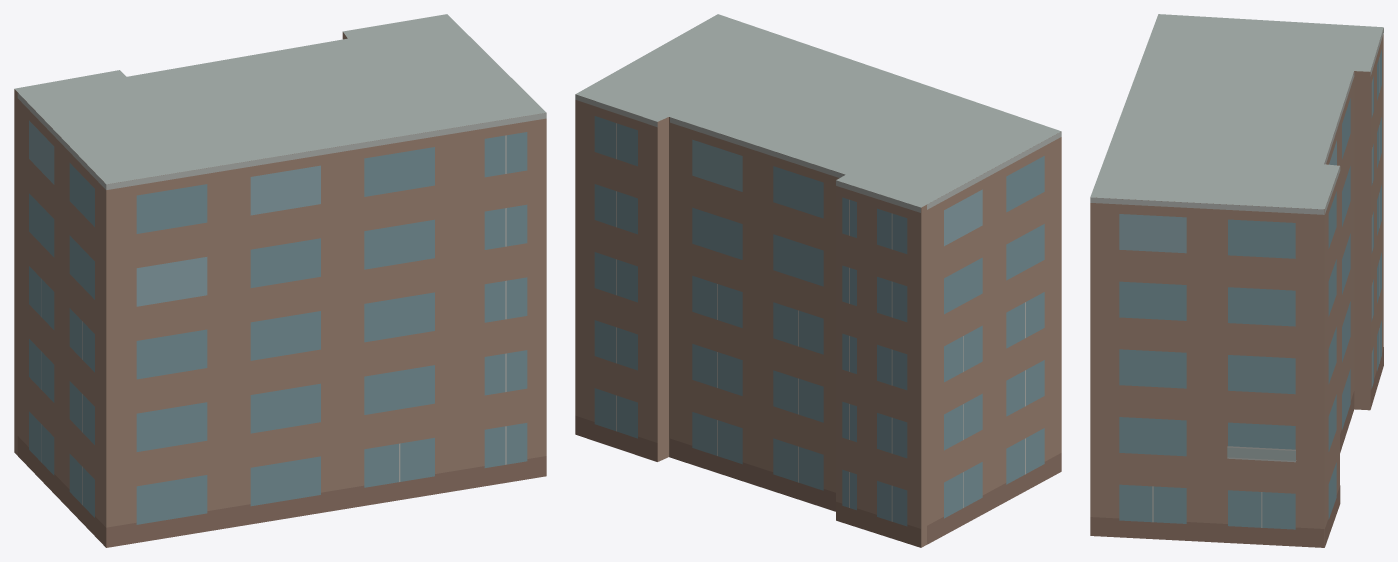
Rendered from survey-upis-32871239.glb.
3 views of the same model, side by side, from view 1: azimuth 30°, elevation 25°; view 2: azimuth 150°, elevation 25°; view 3: azimuth 270°, elevation 25° (orthographic). The views are drawn at different scales.
Visible parts, largest first — view 1: survey-upis-32871239.tmp; view 2: survey-upis-32871239.tmp; view 3: survey-upis-32871239.tmp.
Part boxes in pixels (<box>): survey-upis-32871239.tmp: <box>14,14,546,547</box>; survey-upis-32871239.tmp: <box>575,14,1061,547</box>; survey-upis-32871239.tmp: <box>1090,14,1383,547</box>.
Bounding box in the file's own units: 18.9 × 15.25 × 12.
